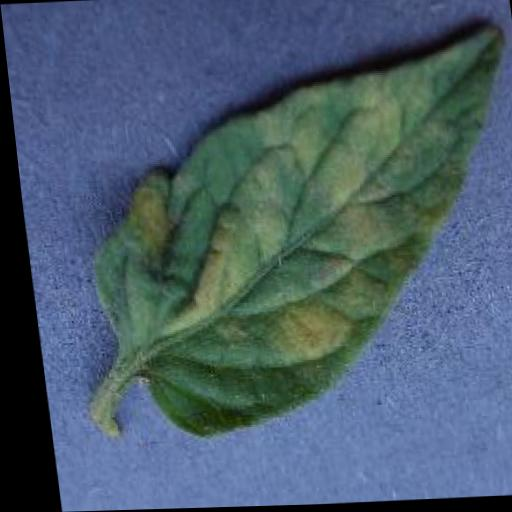Leaf Mold: (55, 29, 512, 443)
